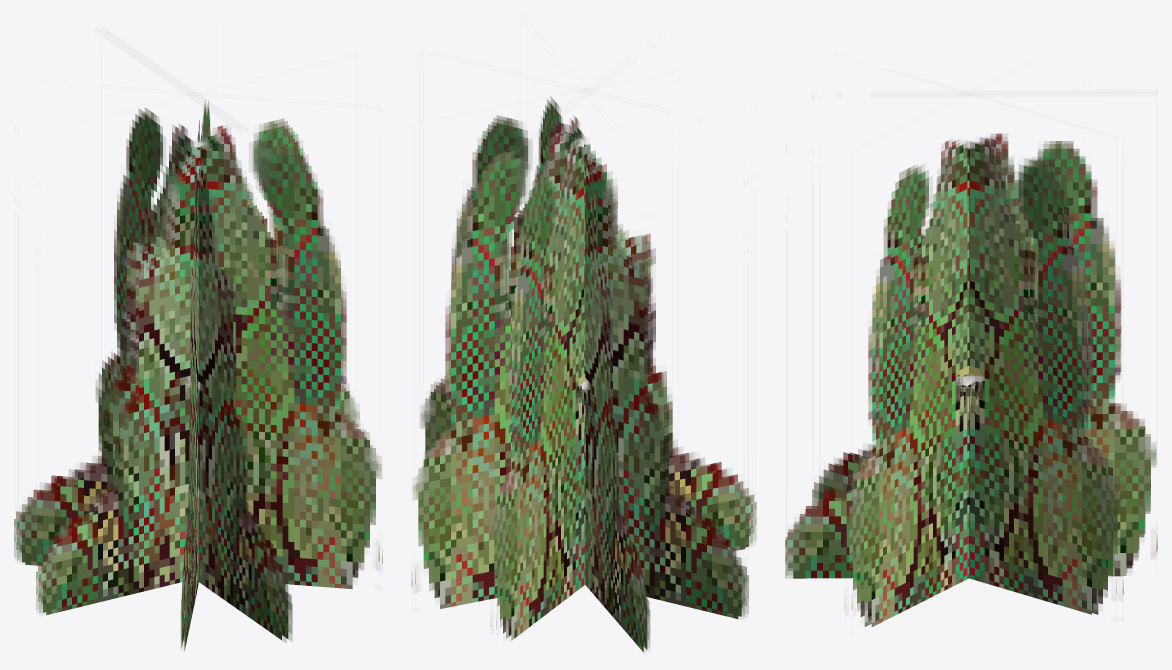
The model's file is Environment - Debris and Ruins - Rubble Mound - Debris - PMPrklyPr.glb.
3 views of the same model, side by side, from view 1: azimuth 30°, elevation 25°; view 2: azimuth 150°, elevation 25°; view 3: azimuth 270°, elevation 25° (orthographic).
Parts seen in each view (by area): view 1: PMPRKLYPR; view 2: PMPRKLYPR; view 3: PMPRKLYPR.
Boxes of the visible parts, x1,y1,x2,y2 form: PMPRKLYPR: (14,94,382,650); PMPRKLYPR: (411,89,756,651); PMPRKLYPR: (785,92,1157,626).
Size of the model in its own units: 8.52 by 12.21 by 8.52.
Materials: 1 (1 with a texture image).
